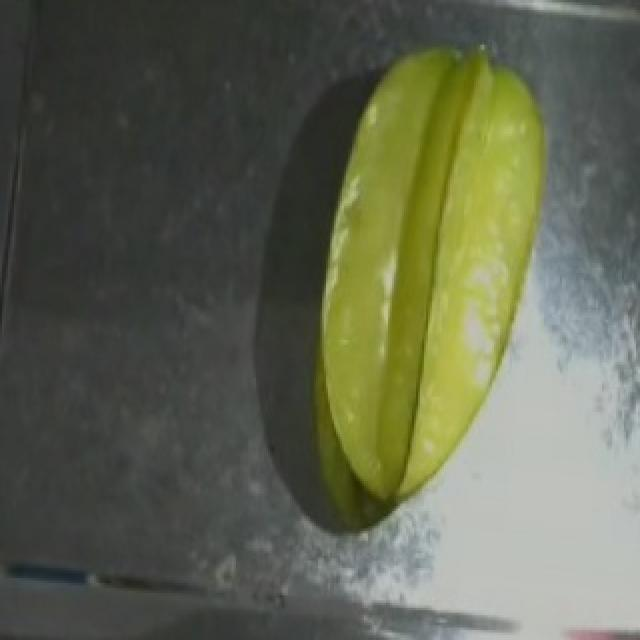fruit: (310, 19, 604, 432)
